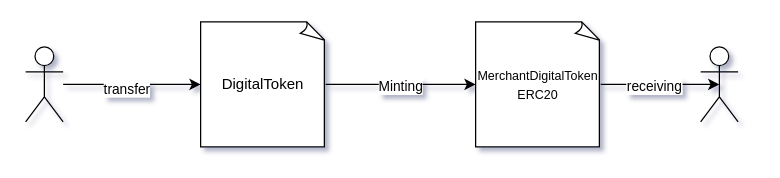
This 780x178 diagram has some shape labels left out. The centre of each missing label's shape, as x and y in pixels:
"Citizen" belongs at point 43,84.
"Merchant" belongs at point 718,84.
